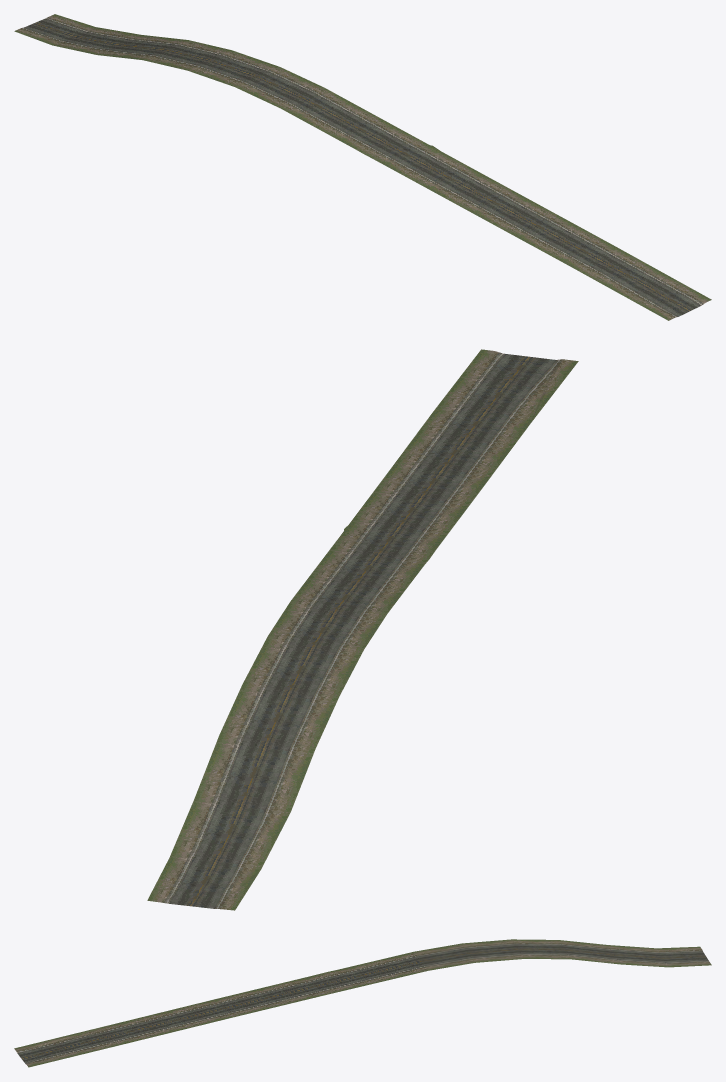
The model's file is lodroadfromlan2.obj.
3 renders of one model, top to bottom at view 1: azimuth 30°, elevation 25°; view 2: azimuth 150°, elevation 25°; view 3: azimuth 270°, elevation 25°, orthographic. The views are drawn at different scales.
Parts seen in each view (by area): view 1: LODroadfromLAN2; view 2: LODroadfromLAN2; view 3: LODroadfromLAN2.
Part boxes in pixels (<box>): LODroadfromLAN2: <box>14,14,711,320</box>; LODroadfromLAN2: <box>147,349,578,910</box>; LODroadfromLAN2: <box>14,939,711,1067</box>.
Size of the model in its own units: 108 by 24.05 by 307.
1 material, 1 textured.
